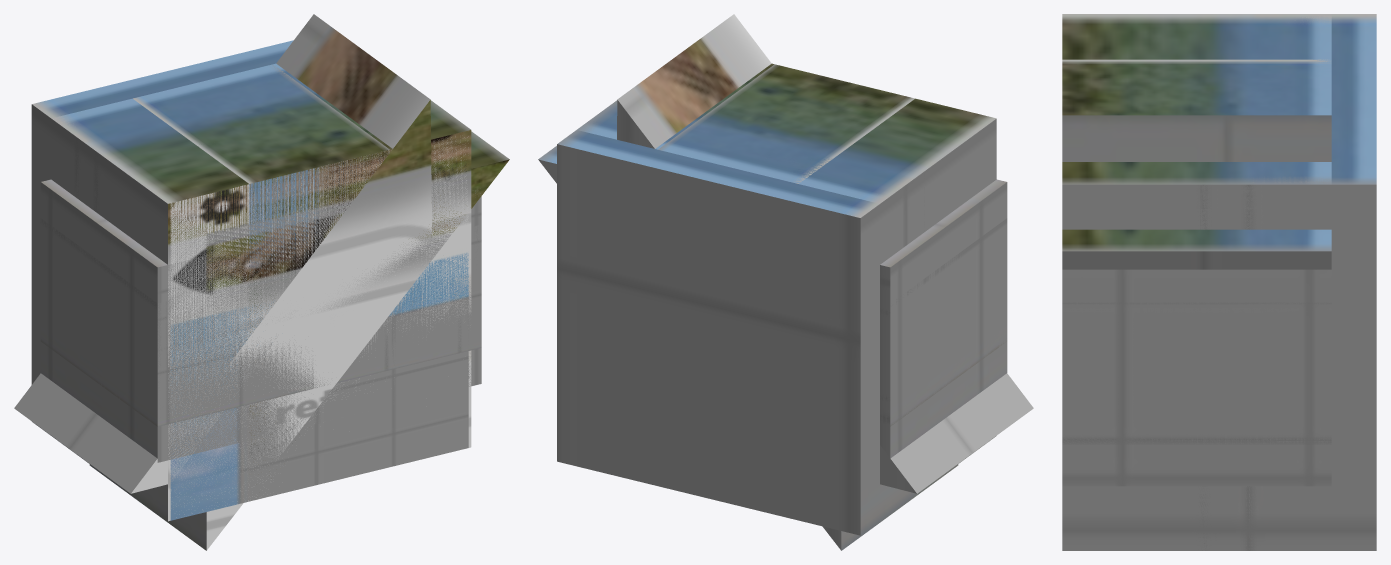
File: puzzle10.fbx
3 views of the same model, side by side, from view 1: azimuth 30°, elevation 25°; view 2: azimuth 150°, elevation 25°; view 3: azimuth 270°, elevation 25° (orthographic). The views are drawn at different scales.
Parts seen in each view (by area): view 1: Cube.008, Cube, Cube.007, Cube.001, Cube.005, Cube.004, Cube.002, Cube.003, Cube.006; view 2: Cube.006, Cube.005, Cube.007, Cube, Cube.001, Cube.002, Cube.003, Cube.004; view 3: Cube.006, Cube.005, Cube.001, Cube, Cube.002, Cube.007, Cube.004, Cube.008, Cube.003.
Boxes of the visible parts, box(x1,y1,x2,y2) form: Cube.008: box(55, 64, 468, 520); Cube: box(51, 63, 471, 521); Cube.007: box(14, 14, 432, 493); Cube.001: box(40, 218, 481, 426); Cube.005: box(40, 179, 481, 462); Cube.004: box(89, 131, 509, 550); Cube.002: box(170, 65, 389, 448); Cube.003: box(133, 67, 388, 501); Cube.006: box(31, 40, 293, 495); Cube.006: box(557, 130, 977, 535); Cube.005: box(880, 179, 1007, 458); Cube.007: box(617, 14, 1033, 493); Cube: box(577, 63, 996, 520); Cube.001: box(880, 218, 1007, 426); Cube.002: box(658, 64, 869, 181); Cube.003: box(704, 64, 914, 183); Cube.004: box(538, 146, 958, 550); Cube.006: box(1107, 14, 1376, 550); Cube.005: box(1062, 269, 1331, 486); Cube.001: box(1062, 302, 1331, 444); Cube: box(1062, 14, 1331, 550); Cube.002: box(1062, 59, 1331, 115); Cube.007: box(1062, 115, 1331, 161); Cube.004: box(1062, 229, 1331, 269); Cube.008: box(1248, 15, 1331, 183); Cube.003: box(1062, 70, 1140, 115).
Bounding box in the file's own units: 375 × 375 × 233.
